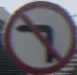Don't turn left: (8, 6, 66, 63)
